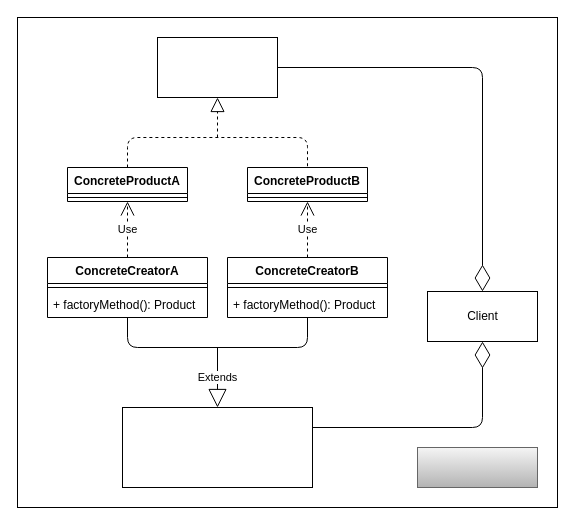
This 575x525 diagram has some shape labels left out. The centre of each missing label's shape, as x and y in pixels:
"<<Interface>> Product" belongs at pixel 217 67.
"Creator {abstract} + factoryMethod(): Product + otherOperation()" belongs at pixel 217 447.
"Factory Method" belongs at pixel 477 467.
